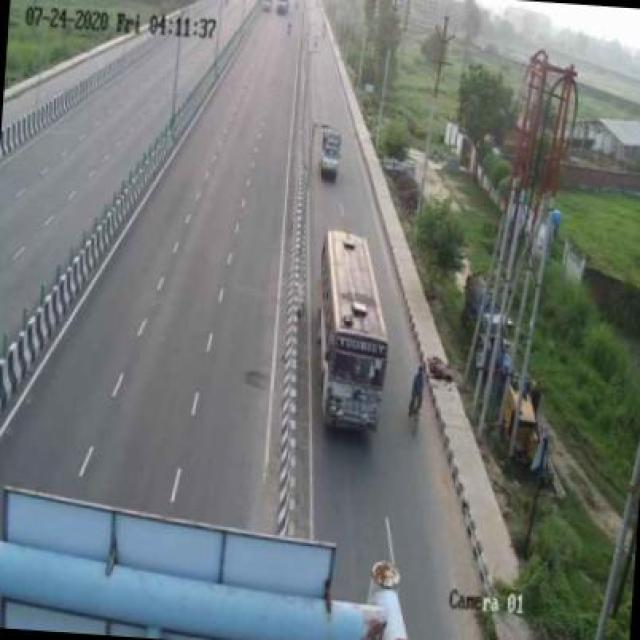car: (317, 121, 361, 188)
